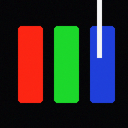4 line_v: (97, 0, 101, 57)
